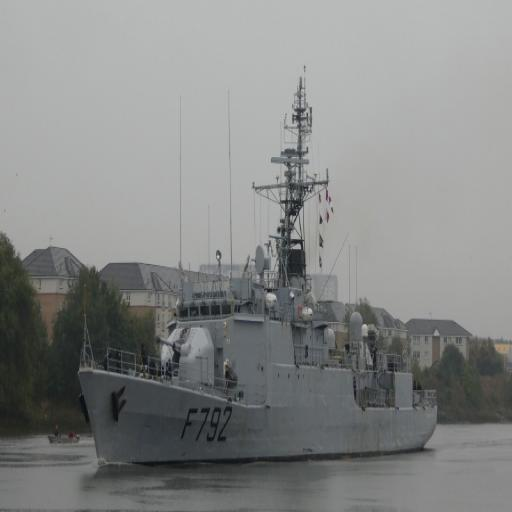Fragata: (77, 67, 442, 475)
